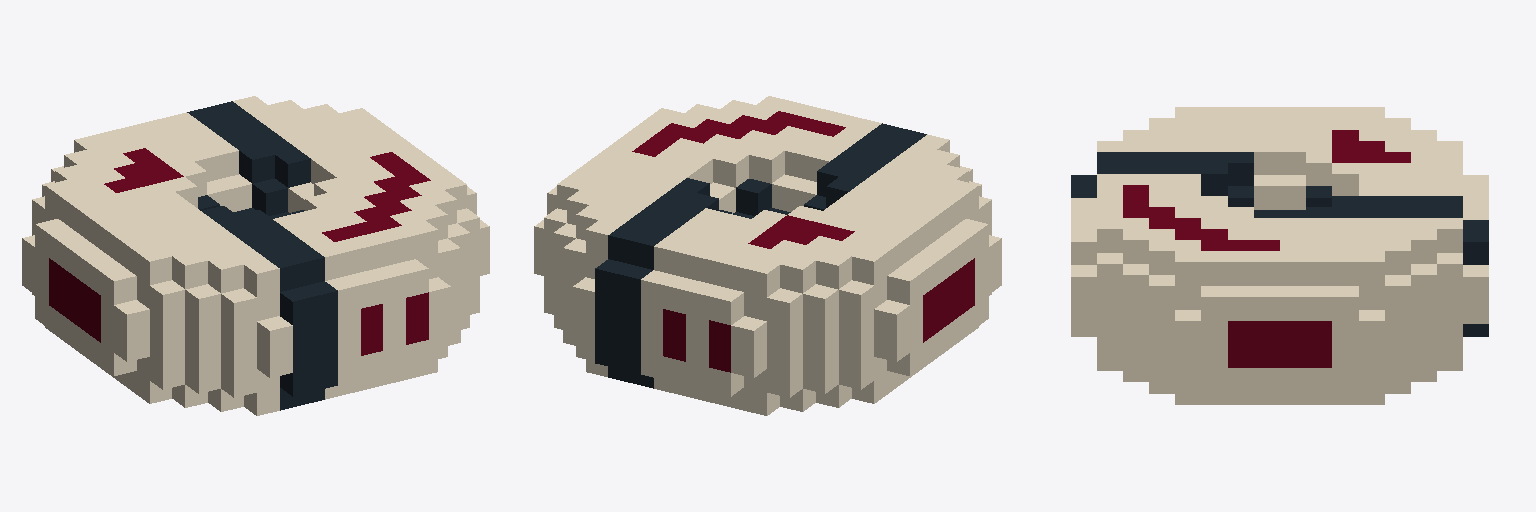
3 views of the same model, side by side, from view 1: azimuth 30°, elevation 25°; view 2: azimuth 150°, elevation 25°; view 3: azimuth 270°, elevation 25° (orthographic).
Parts seen in each view (by area): view 1: object 1; view 2: object 1; view 3: object 1.
Boxes of the visible parts, <box> form: object 1: <box>22,96,489,415</box>; object 1: <box>534,96,1001,415</box>; object 1: <box>1071,107,1488,404</box>.
Size of the model in its own units: 1.6 by 0.6 by 1.6.
Materials: 1 (1 with a texture image).